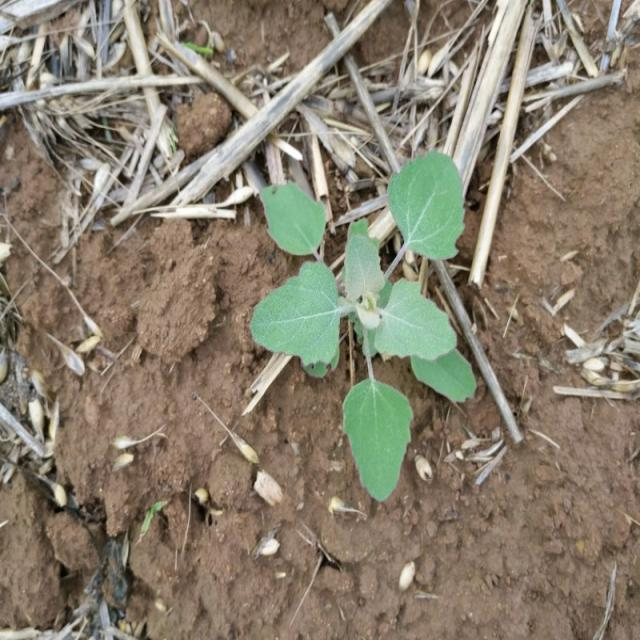goosefoots: (248, 146, 482, 485)
